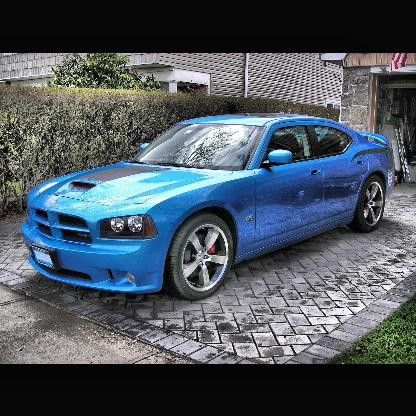Dodge Charger SRT-8 2009: (24, 117, 390, 299)
